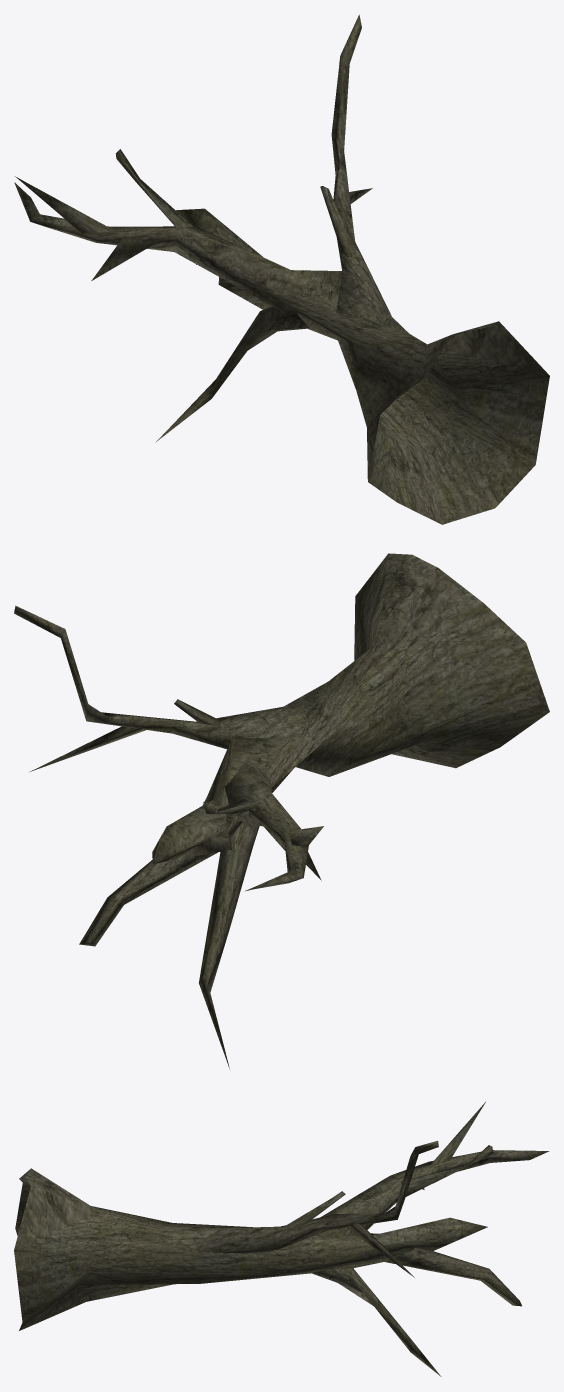
Rendered from TI_Old_Tree_03_LOD_03.fbx.
3 views of the same model, one above another, from view 1: azimuth 30°, elevation 25°; view 2: azimuth 150°, elevation 25°; view 3: azimuth 270°, elevation 25° (orthographic). The views are drawn at different scales.
Visible parts, largest first — view 1: TI_Old_Tree_03_LOD_03; view 2: TI_Old_Tree_03_LOD_03; view 3: TI_Old_Tree_03_LOD_03.
Part boxes in pixels (x1,y1,x2,y2): TI_Old_Tree_03_LOD_03: [14, 14, 549, 524]; TI_Old_Tree_03_LOD_03: [14, 553, 549, 1069]; TI_Old_Tree_03_LOD_03: [14, 1102, 549, 1376].
Bounding box in the file's own units: 5.92 × 6.81 × 10.35.
